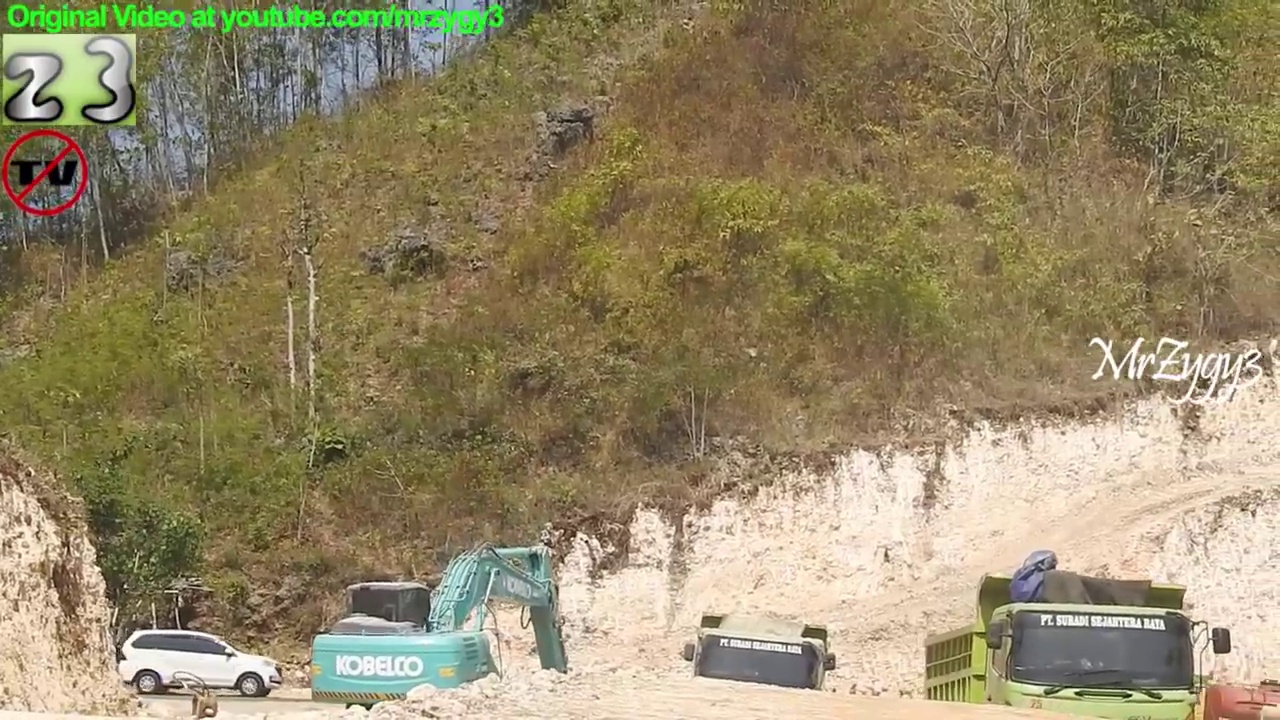excavator: (299, 536, 579, 720)
truck: (917, 571, 1241, 720), (678, 607, 842, 720)
